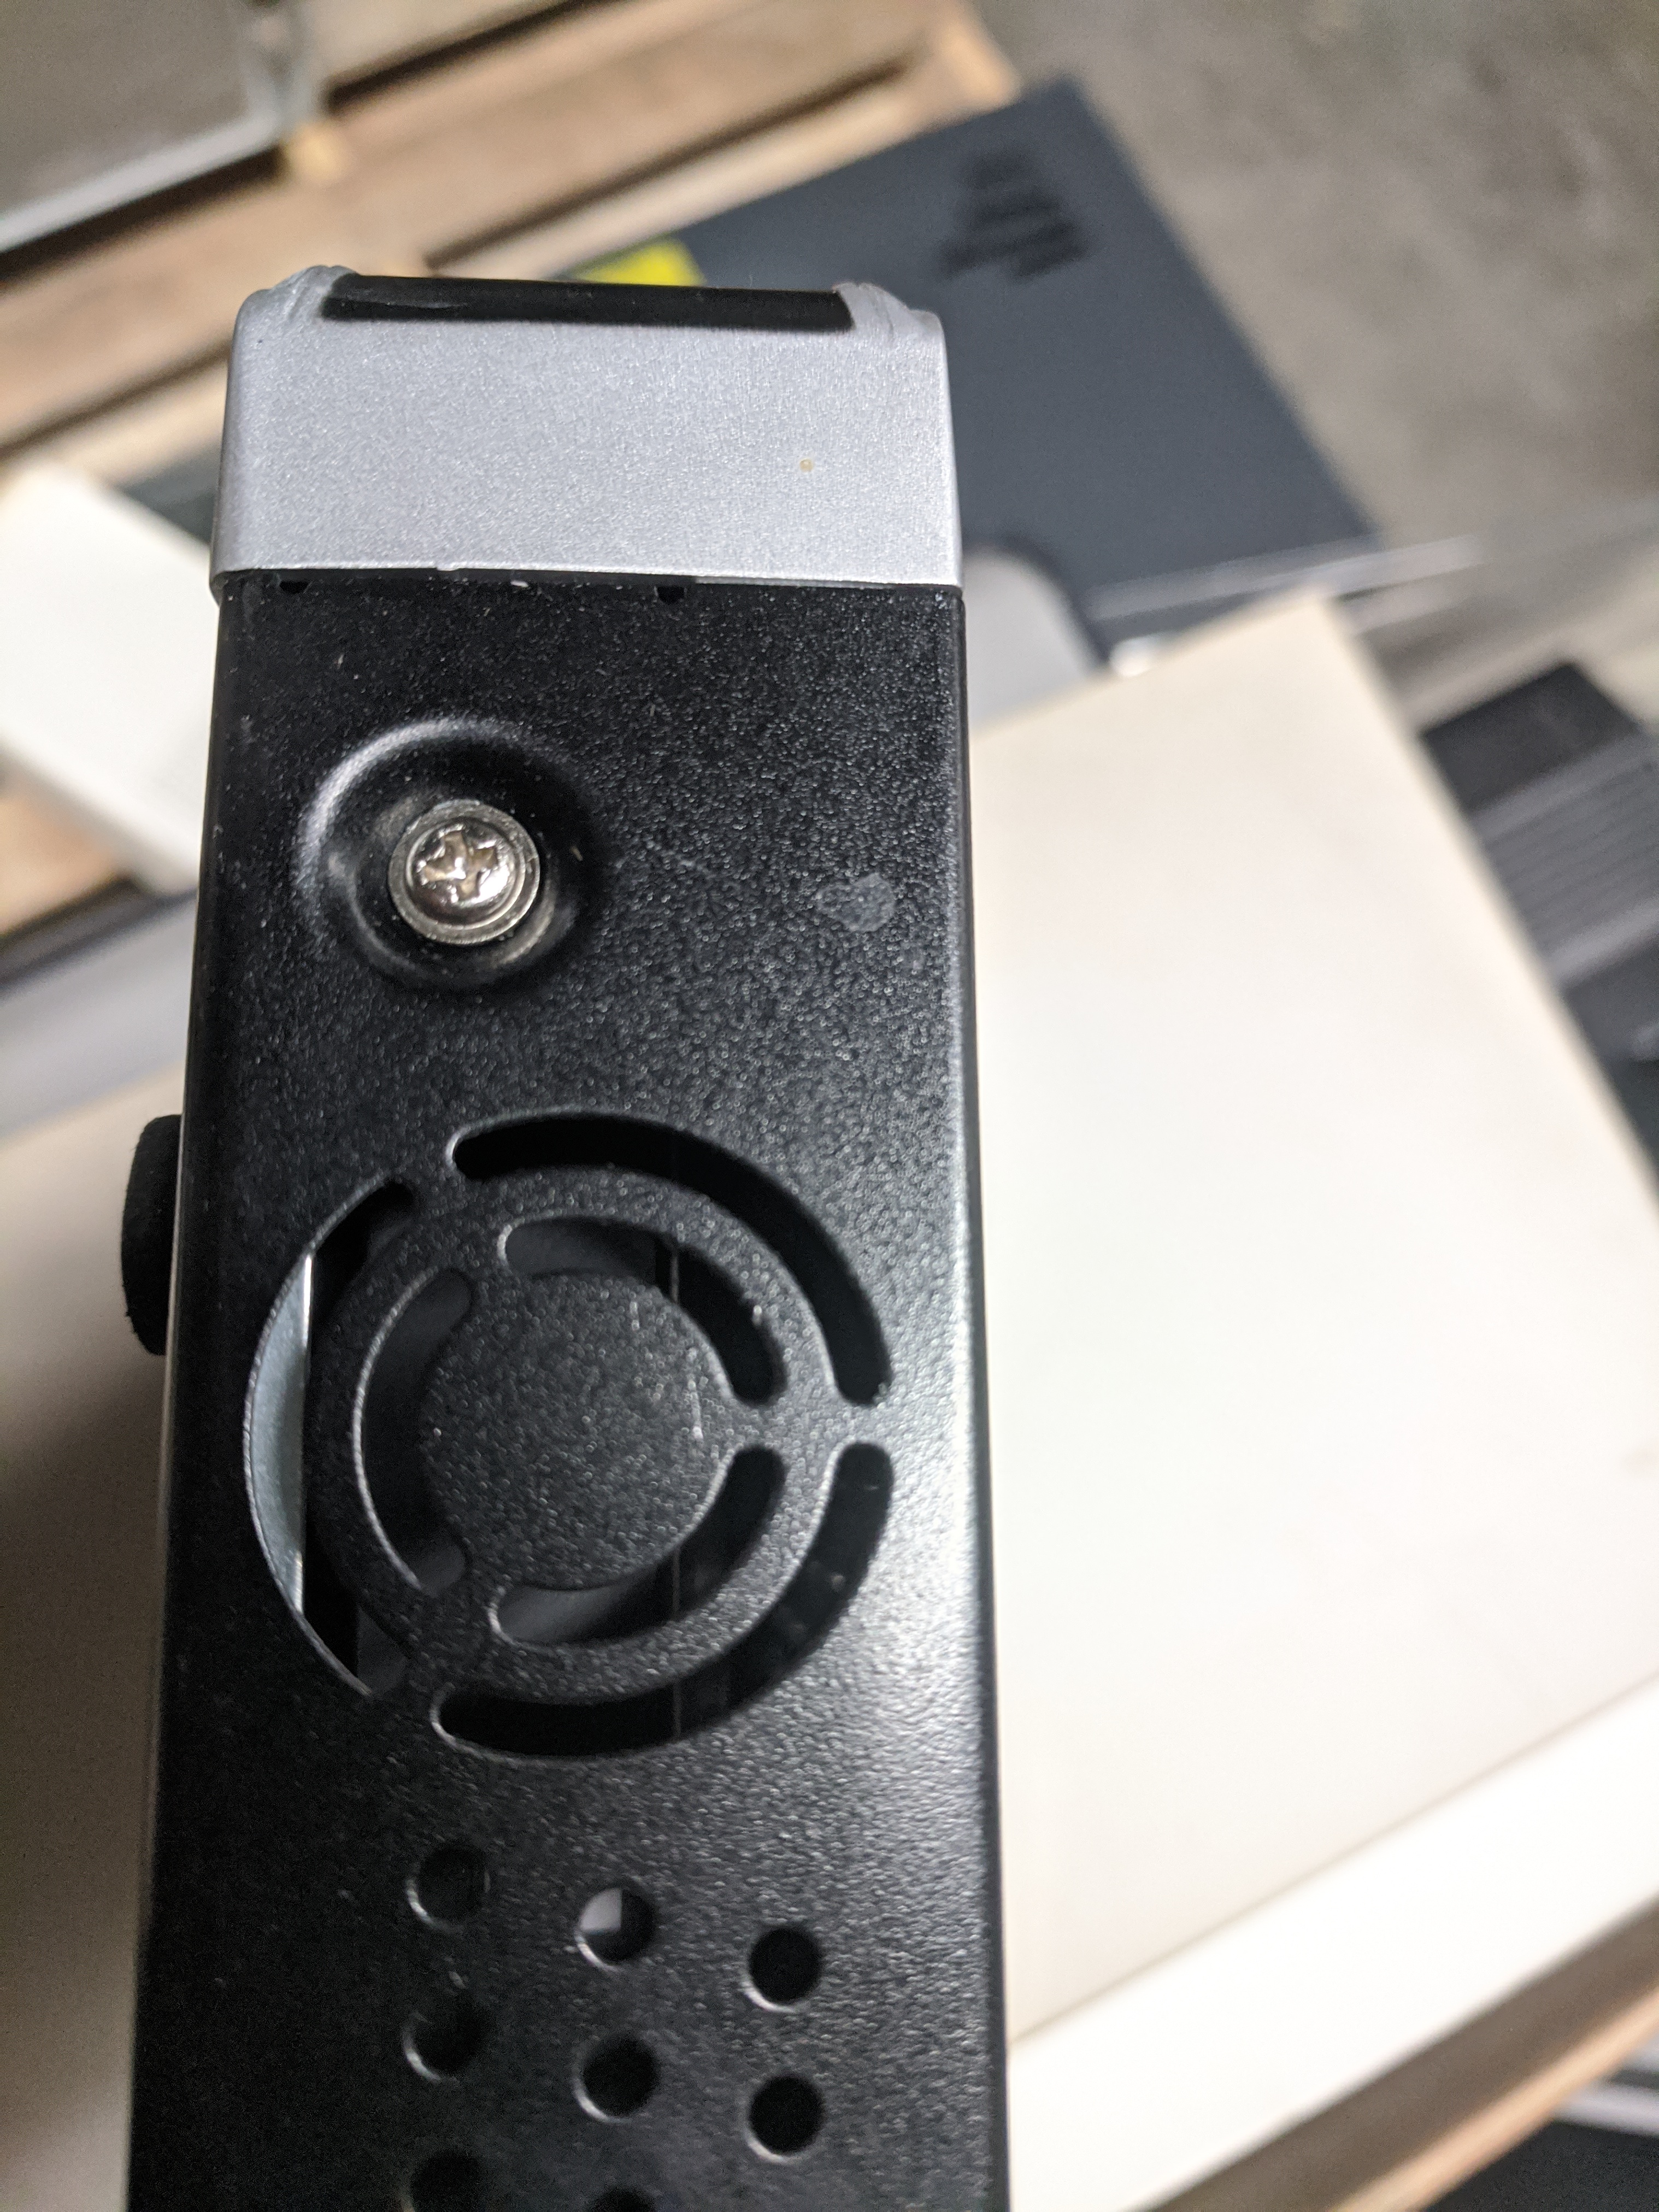cross_recessed_screw: (382, 794, 545, 927)
